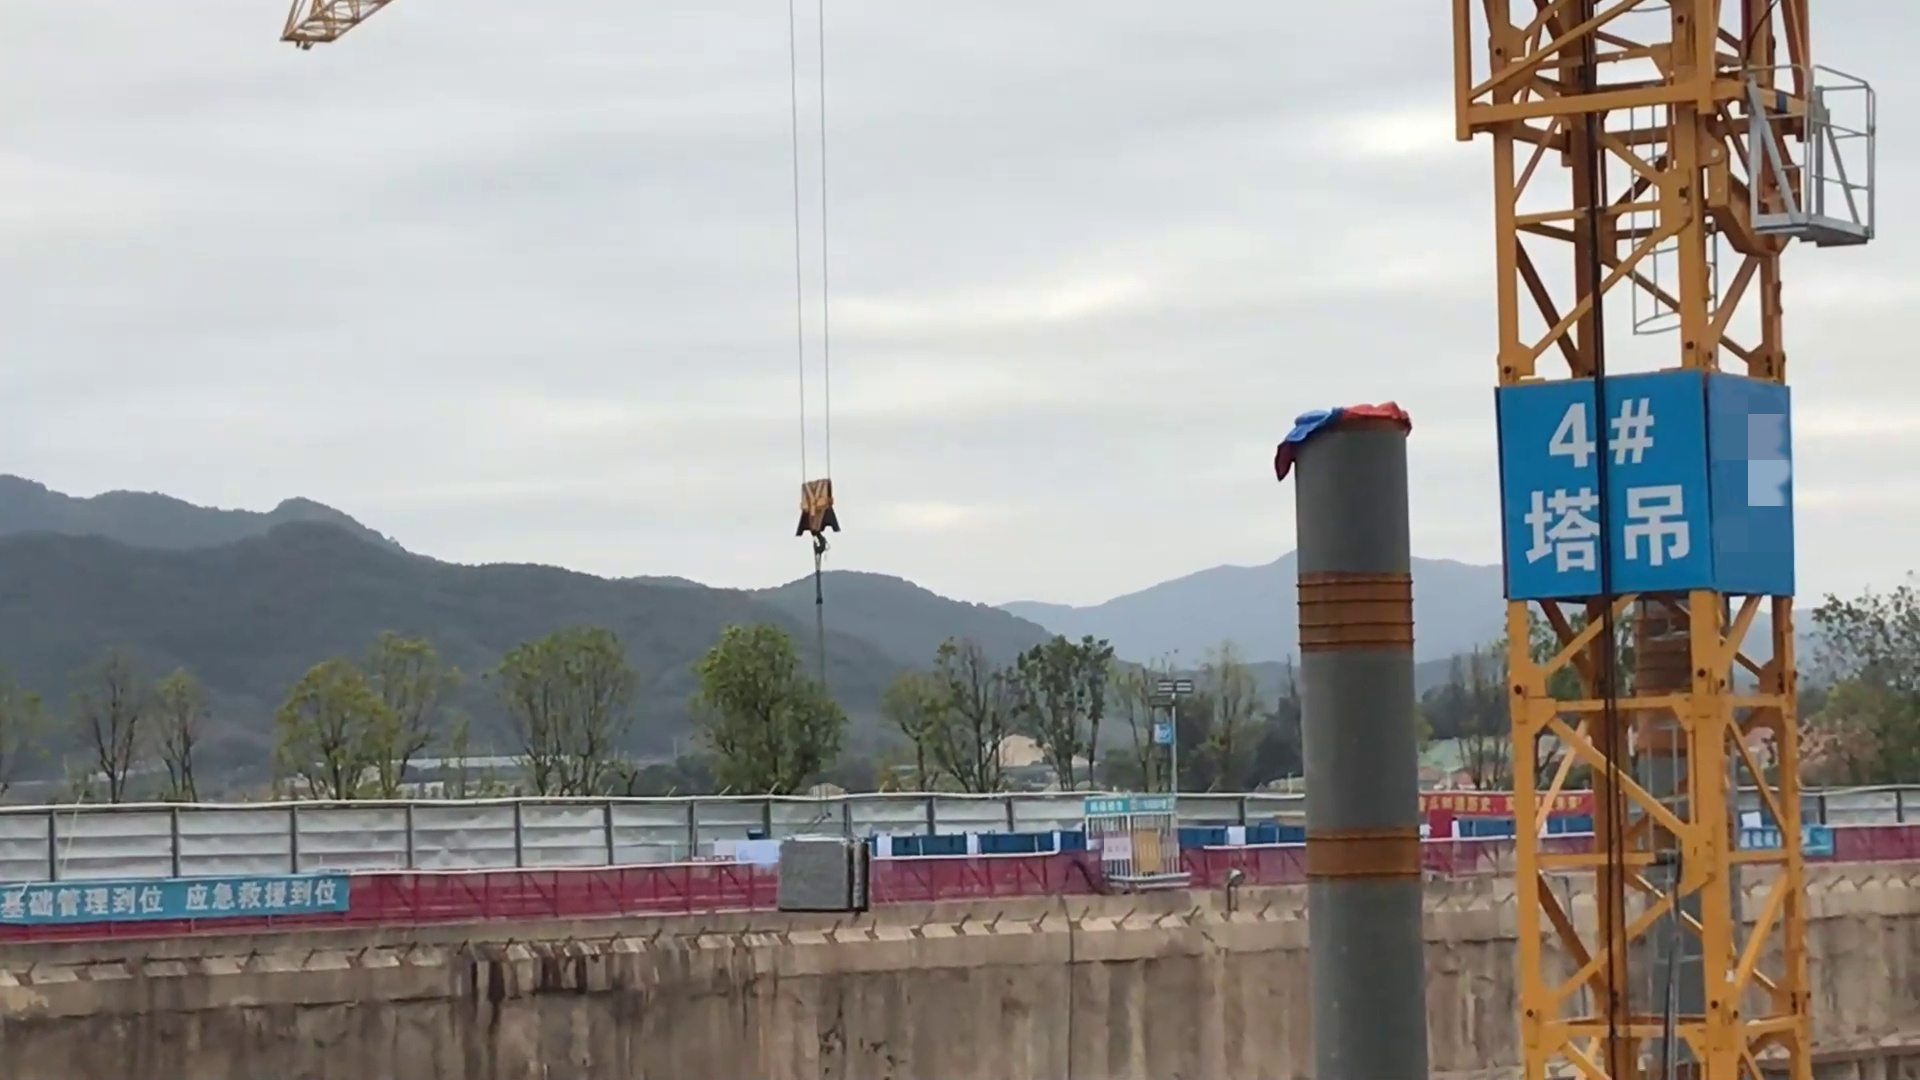hook: (791, 479, 848, 560)
slogan: (8, 876, 360, 920)
